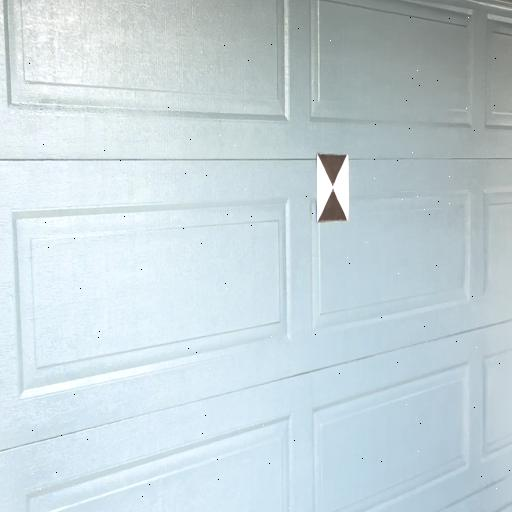target: (316, 153, 348, 222)
